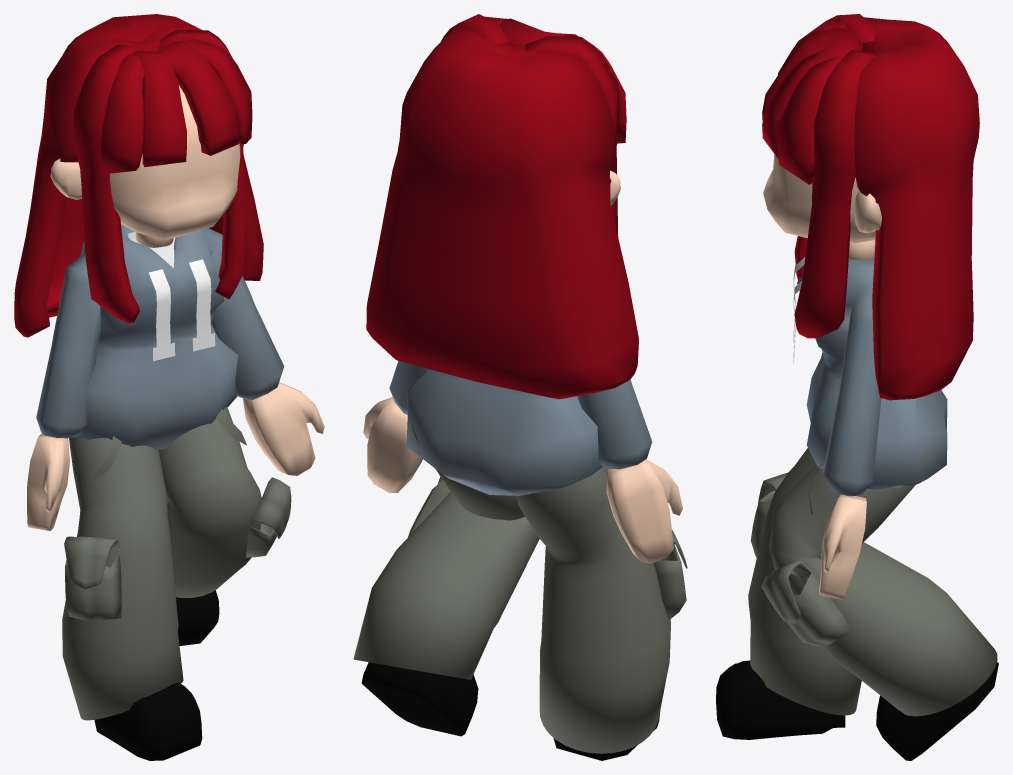
File: umi_walk_1.glb
3 renders of one model, left to right at view 1: azimuth 30°, elevation 25°; view 2: azimuth 150°, elevation 25°; view 3: azimuth 270°, elevation 25°, orthographic. The views are drawn at different scales.
Visible parts, largest first — view 1: pants, sweater, hair.003, hair.001, head, hair, hand, feet, bolsillo, hair.002, Plane, ear (+1 smaller); view 2: hair.003, pants, sweater, hand, feet, hair.001, bolsillo, hair, hair.002; view 3: hair.003, pants, sweater, hair.001, feet, bolsillo, hair.002, hair, hand, head, ear, neck.
Boxes of the visible parts, bbox=[...] form: pants: bbox=[62, 407, 261, 720]; sweater: bbox=[36, 224, 284, 450]; hair.003: bbox=[14, 14, 263, 337]; hair.001: bbox=[73, 30, 244, 322]; head: bbox=[109, 85, 240, 238]; hair: bbox=[134, 40, 238, 167]; hand: bbox=[27, 382, 324, 531]; feet: bbox=[94, 590, 219, 760]; bolsillo: bbox=[64, 477, 291, 620]; hair.002: bbox=[101, 39, 252, 174]; Plane: bbox=[149, 259, 215, 361]; ear: bbox=[50, 144, 243, 199]; hair.003: bbox=[366, 26, 638, 399]; pants: bbox=[353, 421, 670, 753]; sweater: bbox=[389, 361, 652, 495]; hand: bbox=[363, 397, 682, 563]; feet: bbox=[361, 662, 660, 760]; hair.001: bbox=[441, 14, 619, 236]; bolsillo: bbox=[408, 477, 687, 620]; hair: bbox=[499, 18, 577, 45]; hair.002: bbox=[485, 16, 626, 143]; hair.003: bbox=[854, 17, 979, 400]; pants: bbox=[748, 448, 997, 716]; sweater: bbox=[797, 259, 947, 496]; hair.001: bbox=[794, 14, 876, 338]; feet: bbox=[716, 660, 998, 760]; bolsillo: bbox=[750, 472, 851, 645]; hair.002: bbox=[777, 20, 847, 184]; hair: bbox=[762, 27, 862, 157]; hand: bbox=[819, 494, 866, 599]; head: bbox=[763, 154, 875, 243]; ear: bbox=[854, 190, 881, 233]; neck: bbox=[848, 240, 875, 260].
Bounding box in the file's own units: 2.24 × 4.86 × 1.75.
